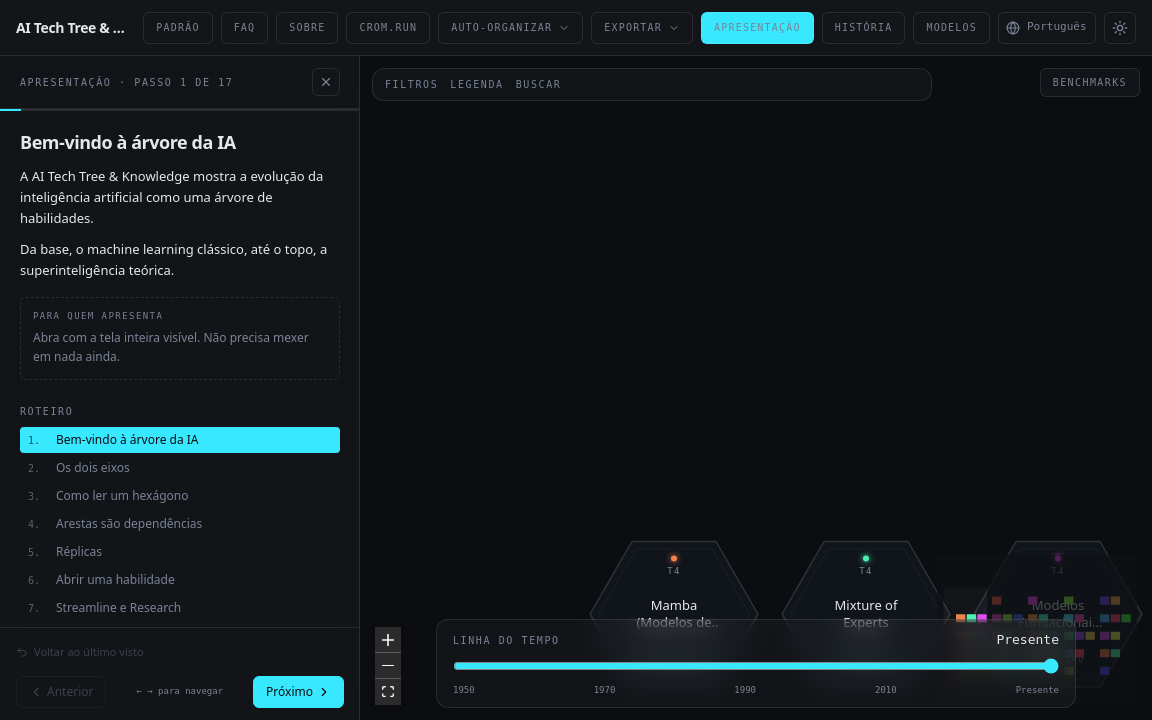
Test: apresentação na interface › Próximo avança o passo e o título acompanha
Click the button "Próximo" at (299, 692), box x1=253 y1=676 x2=344 y2=708
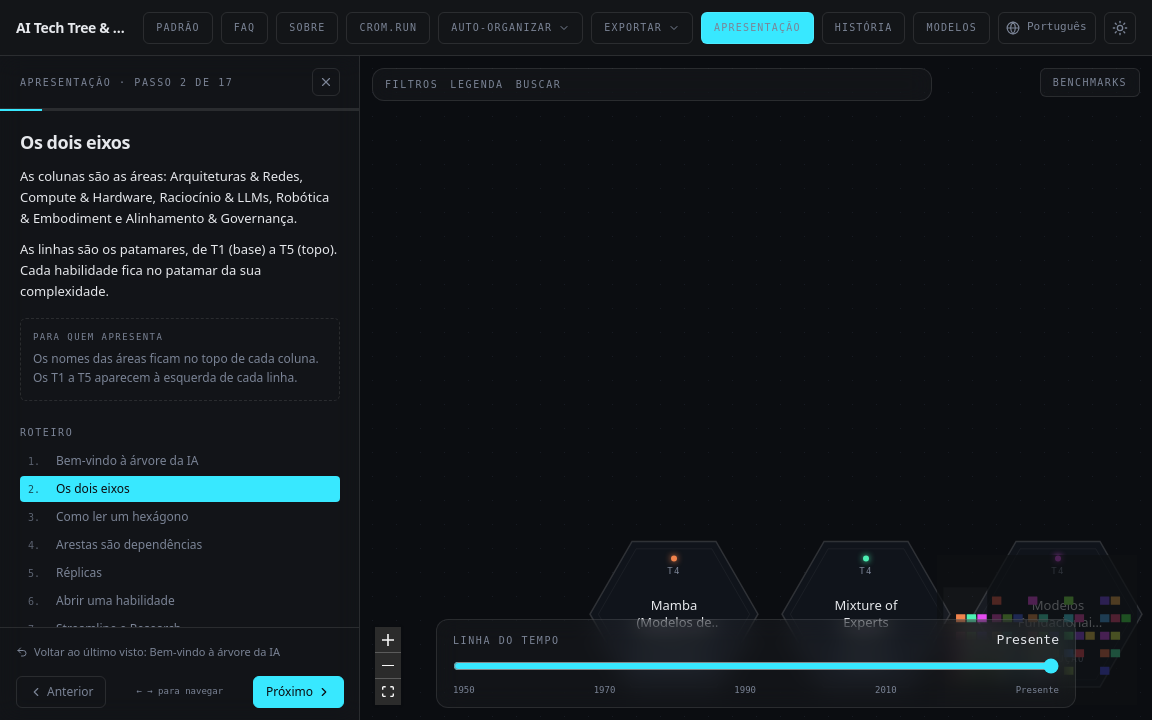
Expected: the heading "Os dois eixos" is shown, x1=20 y1=130 x2=130 y2=154
